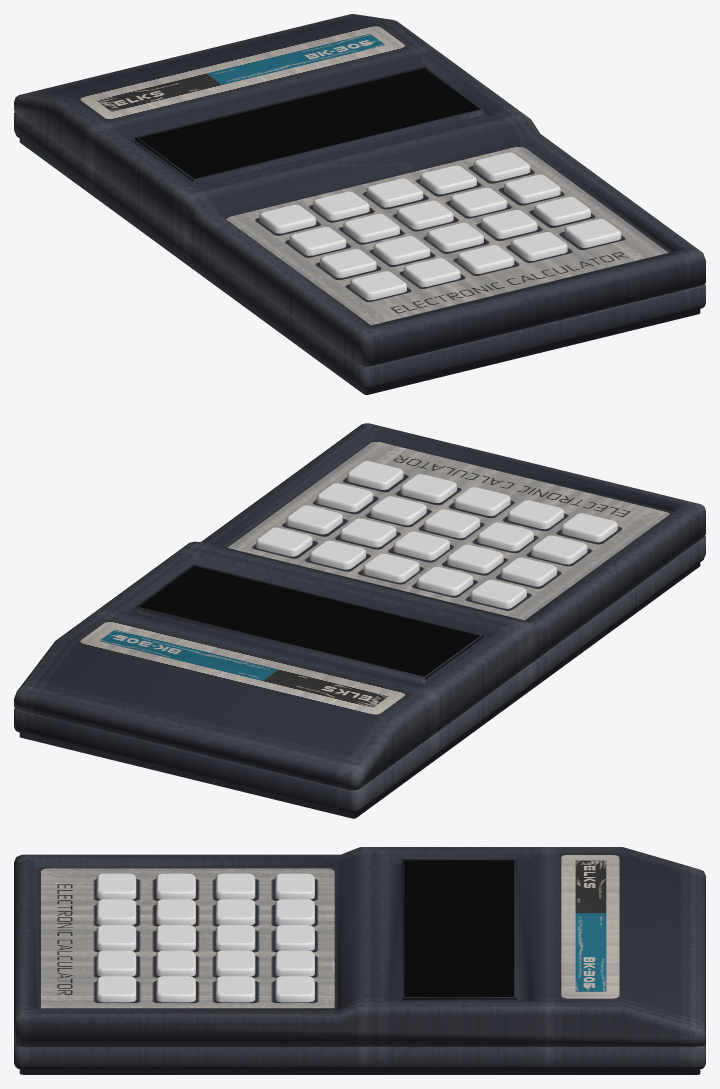
The model's file is Calculator_1978.fbx.
3 views of the same model, one above another, from view 1: azimuth 30°, elevation 25°; view 2: azimuth 150°, elevation 25°; view 3: azimuth 270°, elevation 25° (orthographic).
Parts seen in each view (by area): view 1: Calculator 1978 Body, Button.017, Button.019, Button.002, Button.006, Button.013, Button.015, Button.004, Button.018, Button.010, Button.012, Button.001 (+9 smaller); view 2: Calculator 1978 Body, Button.007, Button.010, Button.016, Button.018, Button.001, Button.006, Button.011, Button.009, Button.019, Button, Button.002 (+9 smaller); view 3: Calculator 1978 Body, Button, Button.003, Button.004, Button.013, Button.014, Button.010, Button.009, Button.005, Button.008, Button.018, Button.019 (+9 smaller).
Boxes of the visible parts, x1,y1,x2,y2 form: Calculator 1978 Body: (14, 14, 705, 394); Button.017: (366, 178, 423, 207); Button.019: (473, 152, 530, 181); Button.002: (457, 245, 514, 273); Button.006: (373, 236, 430, 264); Button.013: (450, 187, 507, 216); Button.015: (259, 204, 316, 233); Button.004: (564, 219, 621, 247); Button.018: (420, 165, 476, 194); Button.010: (289, 227, 346, 255); Button.012: (397, 200, 453, 229); Button.001: (404, 258, 460, 287); Calculator 1978 Body: (14, 423, 705, 818); Button.007: (423, 509, 480, 538); Button.010: (500, 557, 557, 586); Button.016: (416, 566, 473, 595); Button.018: (309, 540, 366, 569); Button.001: (507, 500, 564, 529); Button.006: (477, 522, 533, 551); Button.011: (447, 544, 503, 573); Button.009: (316, 483, 373, 512); Button.019: (256, 527, 312, 556); Button: (561, 513, 617, 542); Button.002: (454, 487, 510, 516); Calculator 1978 Body: (14, 847, 705, 1074); Button: (96, 873, 136, 899); Button.003: (96, 950, 136, 976); Button.004: (96, 976, 136, 1002); Button.013: (215, 950, 255, 976); Button.014: (215, 976, 255, 1002); Button.010: (215, 873, 255, 899); Button.009: (156, 976, 195, 1002); Button.005: (156, 873, 195, 899); Button.008: (156, 950, 195, 976); Button.018: (275, 950, 314, 976); Button.019: (275, 976, 314, 1002).
Bounding box in the file's own units: 8.02 × 1.53 × 14.2.
